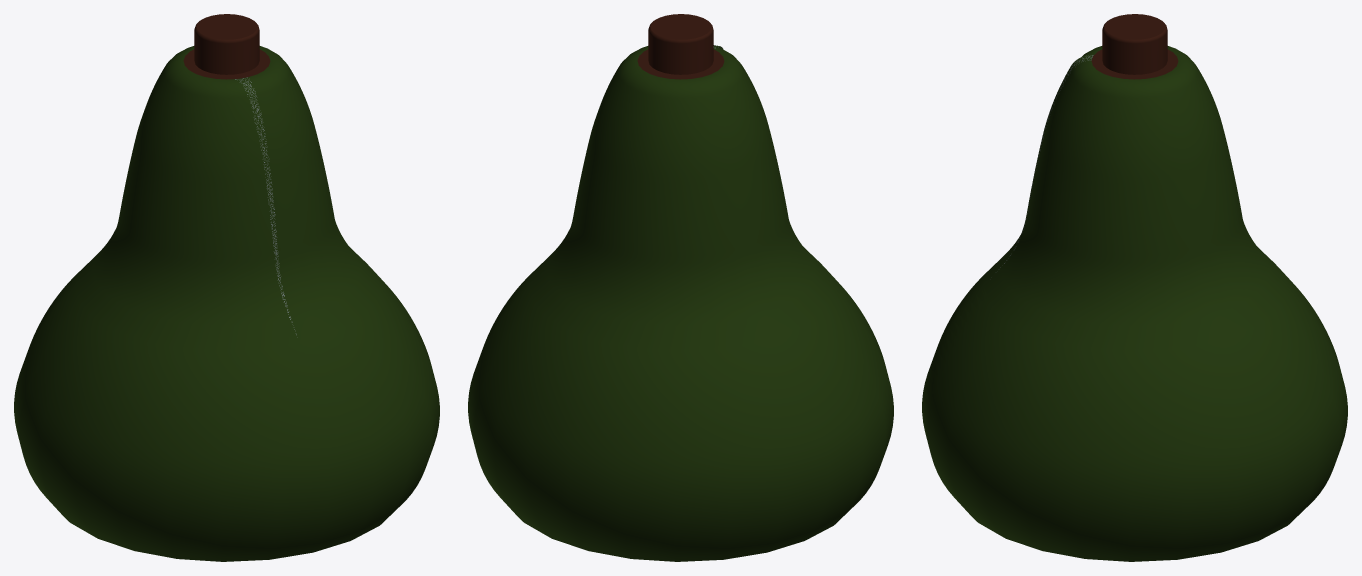
3 views of the same model, side by side, from view 1: azimuth 30°, elevation 25°; view 2: azimuth 150°, elevation 25°; view 3: azimuth 270°, elevation 25° (orthographic).
Visible parts, largest first — view 1: Group2, Group1, Model; view 2: Group2, Group1; view 3: Group2, Group1, Model.
Boxes of the visible parts, left/top/right/bottom form: Group2: left=14, top=46, right=439, bottom=561; Group1: left=183, top=14, right=270, bottom=79; Model: left=234, top=77, right=298, bottom=338; Group2: left=468, top=46, right=893, bottom=561; Group1: left=637, top=14, right=724, bottom=79; Group2: left=922, top=46, right=1347, bottom=561; Group1: left=1091, top=14, right=1178, bottom=79; Model: left=988, top=54, right=1094, bottom=280.
Bounding box in the file's own units: 2.97 × 3.54 × 2.97.
